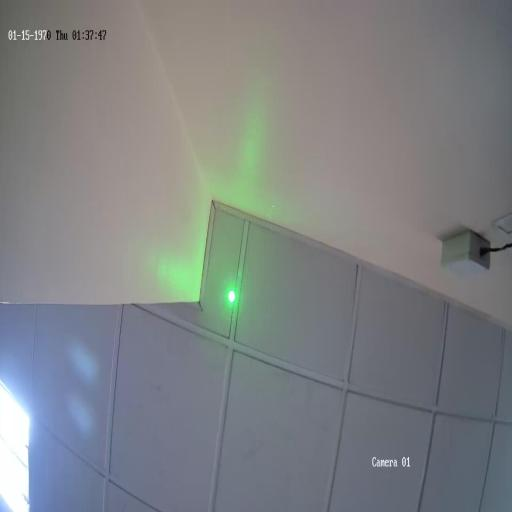laser: (226, 285, 238, 308)
